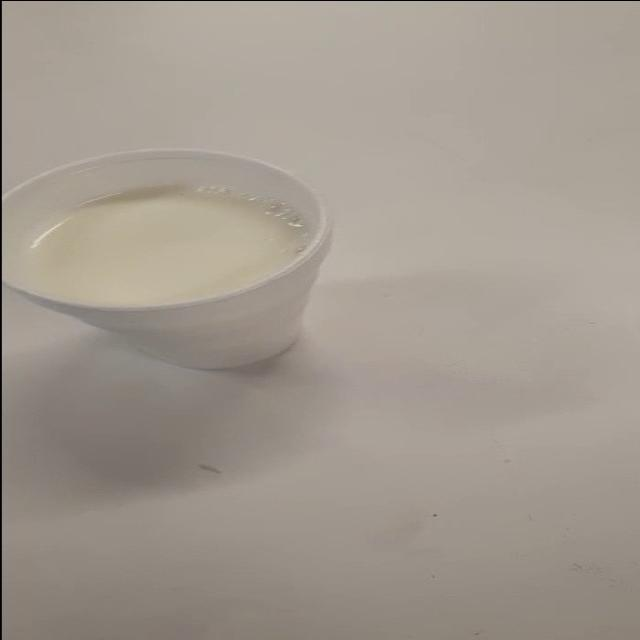Milk: (1, 142, 373, 370)
